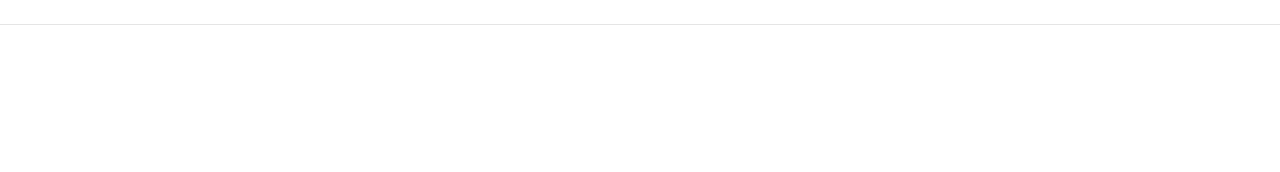
Test: AddSectionDivider › shows add section button on hover
The image size is (1280, 172).
Expected: the text "Add section" is not shown
// Hover over the container
Hover over the element with class "cursor-pointer".
mouse_move(640, 24)  # box [0,12,1279,36]
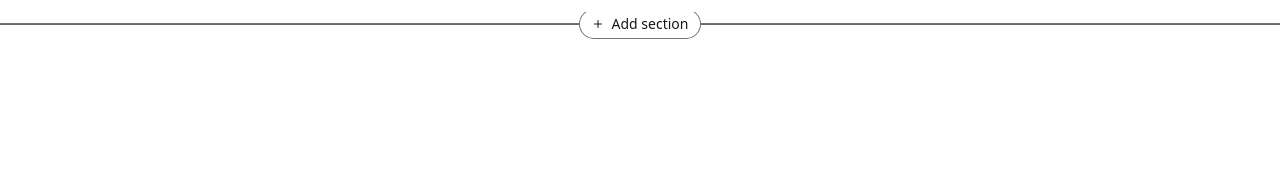
Now the text "Add section" is shown, box [612,14,688,34]
